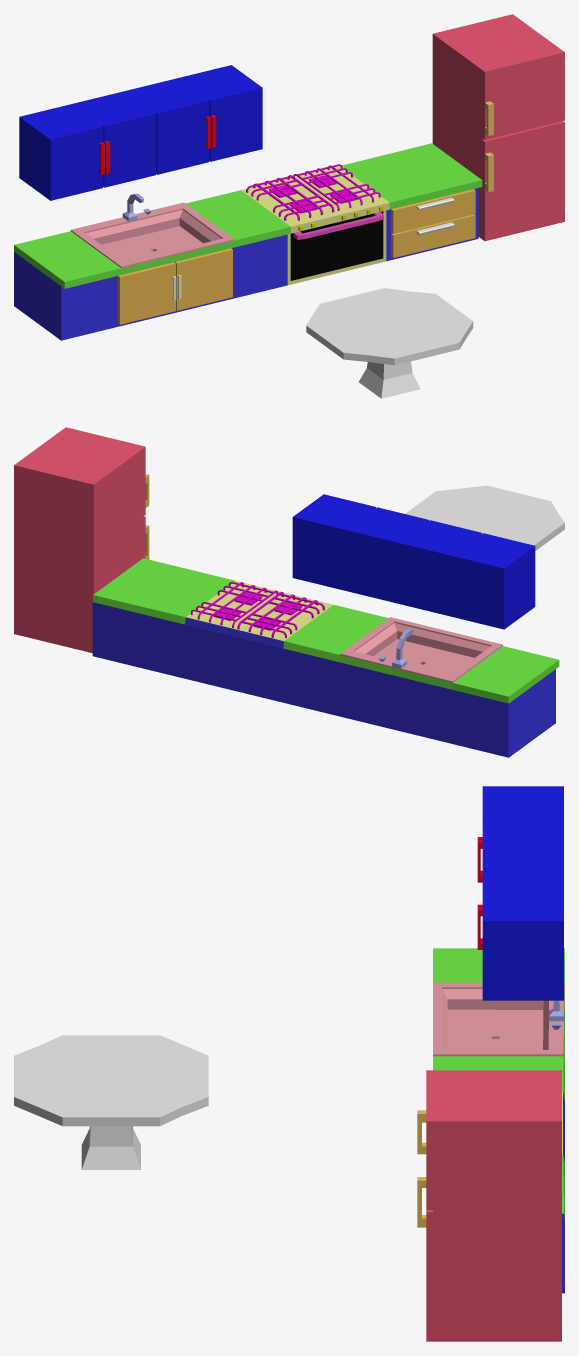
The model's file is PropsCocina.fbx.
3 views of the same model, one above another, from view 1: azimuth 30°, elevation 25°; view 2: azimuth 150°, elevation 25°; view 3: azimuth 270°, elevation 25° (orthographic). The views are drawn at different scales.
Parts seen in each view (by area): view 1: Encimera, Nevera, ArmarioCocina, CocinaMesa; view 2: Encimera, Nevera, ArmarioCocina, CocinaMesa; view 3: Nevera, CocinaMesa, ArmarioCocina, Encimera.
Part boxes in pixels (x1,y1,x2,y2): Encimera: (14, 143, 482, 340); Nevera: (432, 14, 564, 241); ArmarioCocina: (19, 65, 262, 200); CocinaMesa: (306, 288, 473, 398); Encimera: (92, 558, 559, 757); Nevera: (14, 427, 149, 652); ArmarioCocina: (292, 494, 535, 629); CocinaMesa: (405, 485, 564, 550); Nevera: (417, 1070, 561, 1341); CocinaMesa: (14, 1035, 208, 1169); ArmarioCocina: (477, 786, 563, 1000); Encimera: (433, 948, 564, 1293).
Bounding box in the file's own units: 768 × 279 × 566.
